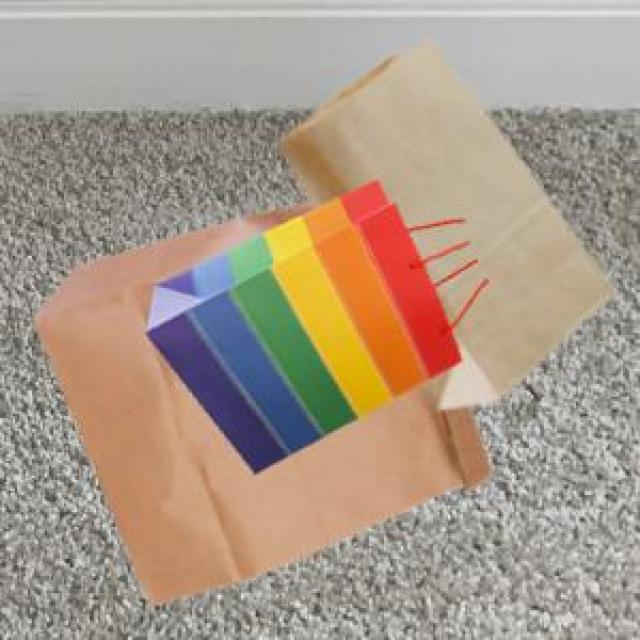Paper -Biodegradable-: (35, 50, 620, 608)
